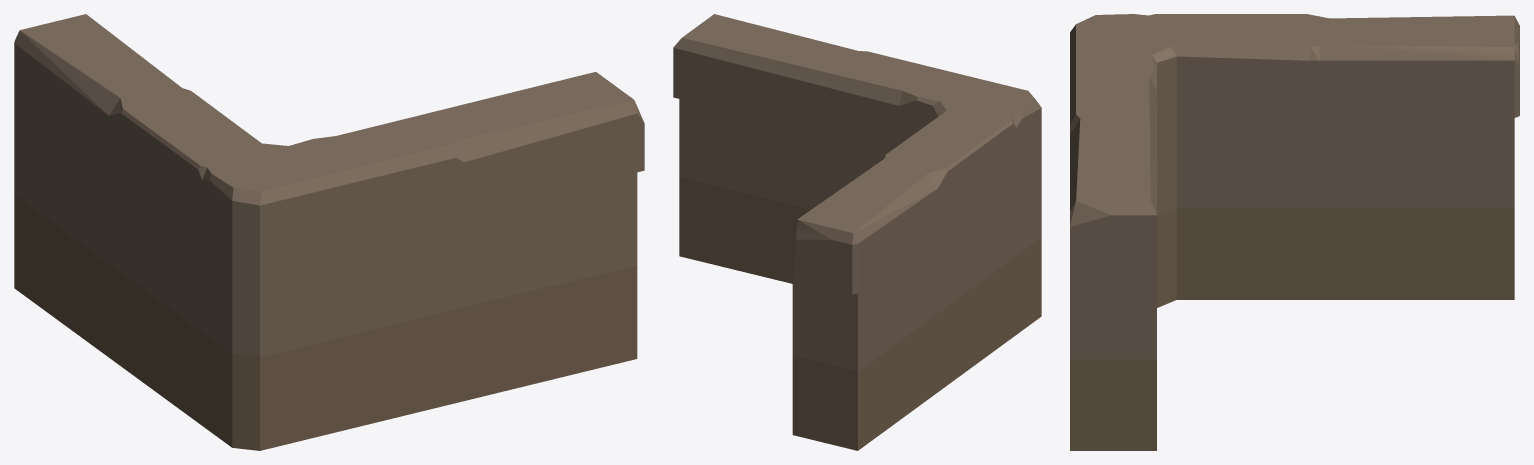
File: BG_Kerb_01_wood_conner.fbx
The picture shows the model from 3 angles, left to right: view 1: azimuth 30°, elevation 25°; view 2: azimuth 150°, elevation 25°; view 3: azimuth 270°, elevation 25°; orthographic projection. The views are drawn at different scales.
Parts seen in each view (by area): view 1: BG_Kerb_01_wood_conner; view 2: BG_Kerb_01_wood_conner; view 3: BG_Kerb_01_wood_conner.
Boxes of the visible parts, x1=… form: BG_Kerb_01_wood_conner: x1=14, y1=14, x2=644, y2=450; BG_Kerb_01_wood_conner: x1=673, y1=14, x2=1041, y2=450; BG_Kerb_01_wood_conner: x1=1070, y1=14, x2=1519, y2=450.
Bounding box in the file's own units: 22.58 × 13.77 × 22.44.
1 material, 1 textured.
